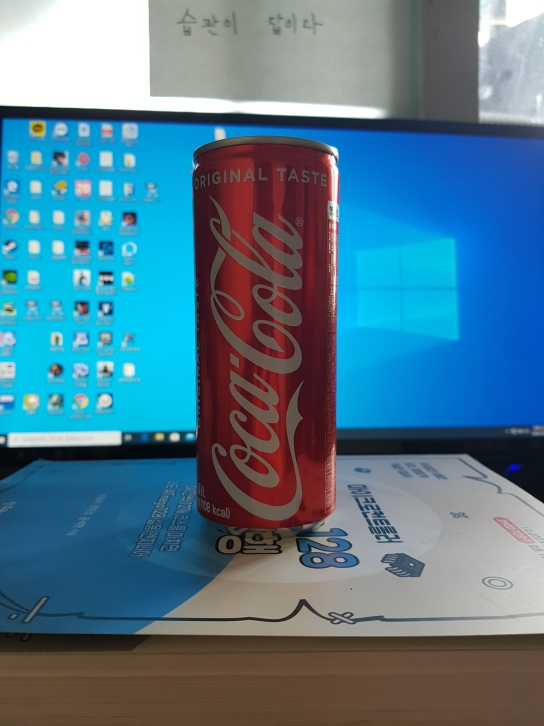Can: (188, 133, 344, 538)
